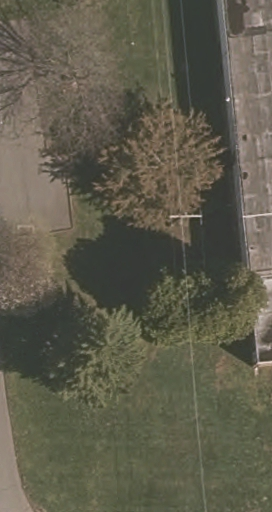DT: (157, 204, 210, 232)
